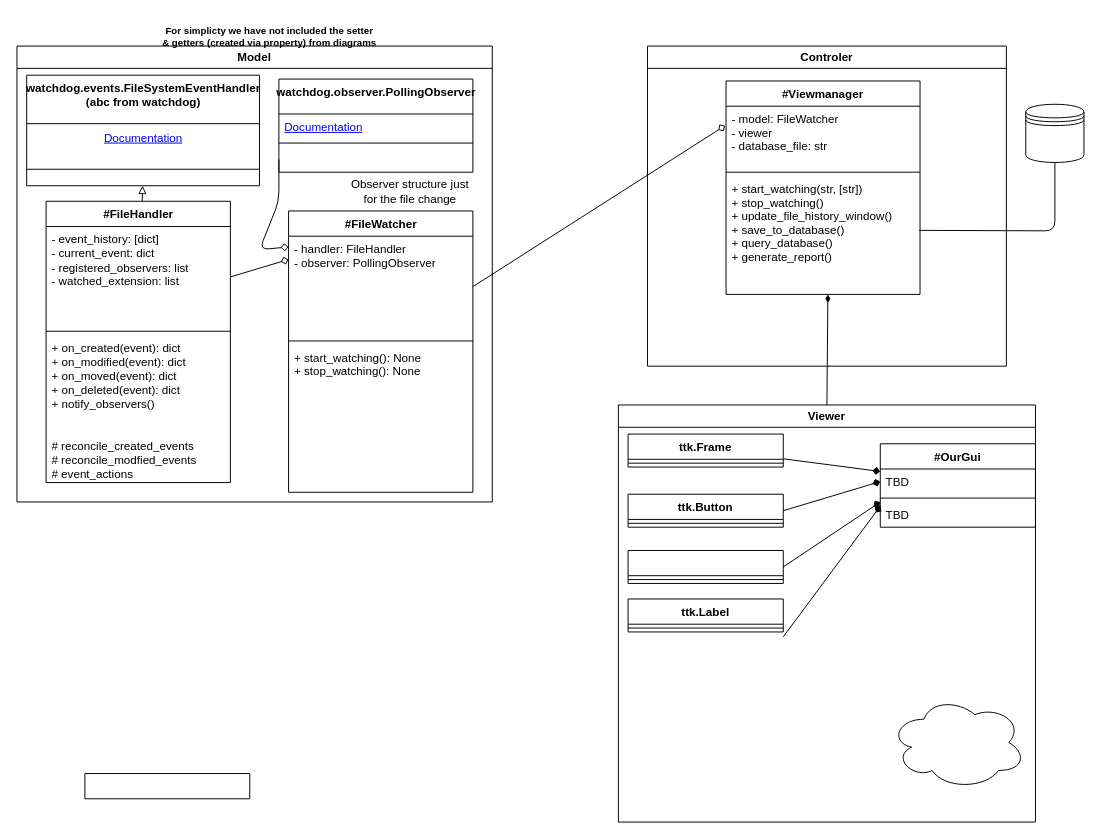
Some shapes in this 1101 by 839 pixel diagram are drawn without their labels. The shapes that lost their labels are listed below. From the top down, each one's centre as x and y in pixels, then its label:
pixel 1054 132: Database
pixel 705 566: ttk.Entry
pixel 957 742: Other tkinter classes to follow.
pixel 167 786: LogHandler
